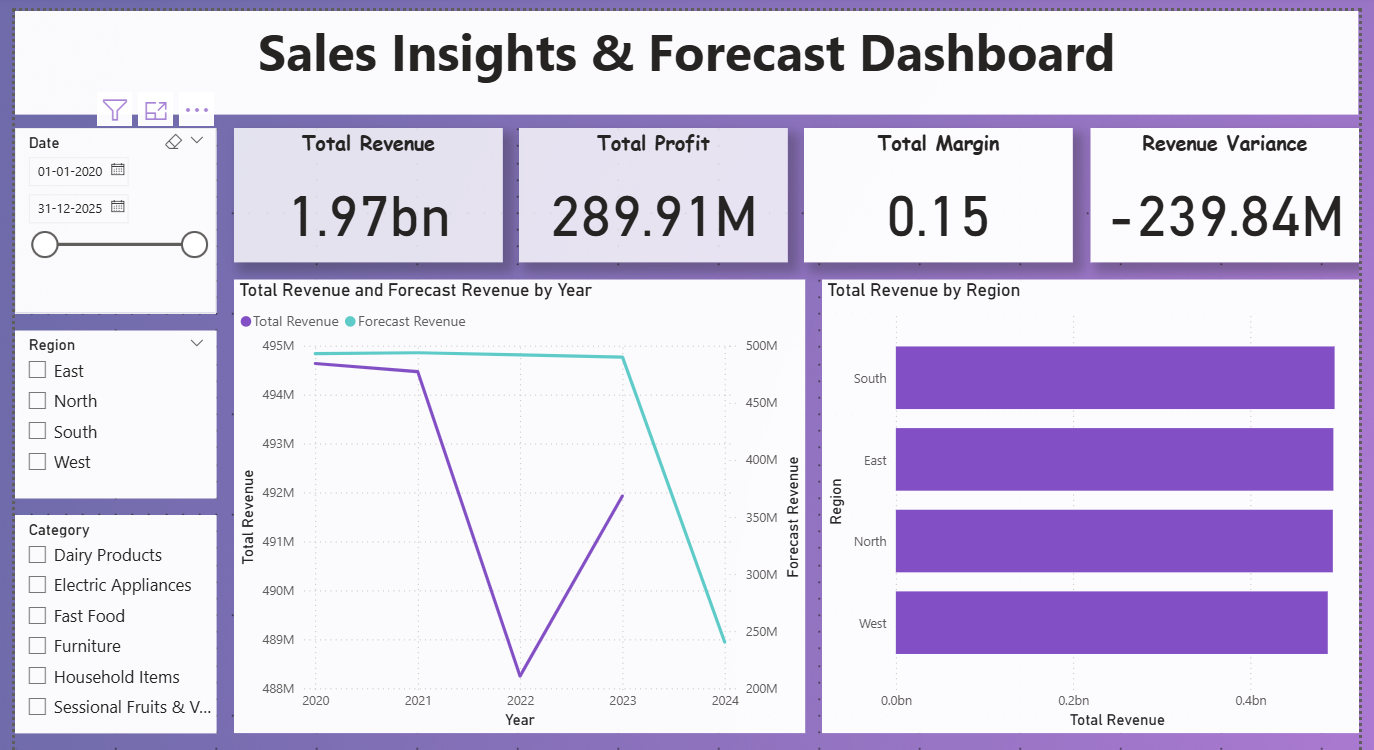

The page's visual inventory and layout, read from the dashboard file:
{"tool":"powerbi","page":{"name":"Executive Overview","canvas":[1280,720],"ordinal":0},"visuals":[{"type":"textbox","box":[0,0,1279.5,98.4],"z":0},{"type":"card","title":"Total Revenue","fields":{"Values":["Z_Measures.Total Revenue"]},"box":[208,112,256,128],"z":1000},{"type":"card","title":"Total Profit","fields":{"Values":["Z_Measures.Total Profit"]},"box":[480,112,256,128],"z":2000},{"type":"card","title":"Total Margin","fields":{"Values":["Z_Measures.Profit Margin"]},"box":[752,112,256,128],"z":3000},{"type":"card","title":"Revenue Variance","fields":{"Values":["Z_Measures.Revenue Variance"]},"box":[1024,112,256,128],"z":4000},{"type":"lineChart","fields":{"Category":["Date.Date.Variation.Date Hierarchy.Year","Date.Date.Variation.Date Hierarchy.Month"],"Y":["Z_Measures.Total Revenue"],"Y2":["Z_Measures.Forecast Revenue"]},"box":[208,256,544,432],"z":5000},{"type":"clusteredBarChart","fields":{"Category":["Fact_Sales.Region"],"Y":["Z_Measures.Total Revenue"]},"box":[768,256,512,432],"z":6000},{"type":"slicer","fields":{"Values":["Date.Date"]},"box":[0,112,192,176],"z":7000},{"type":"slicer","fields":{"Values":["Fact_Sales.Region"]},"box":[0,304,192,160],"z":8000},{"type":"slicer","fields":{"Values":["Fact_Sales.Category"]},"box":[0,480,192,208],"z":9000}]}

Visuals, with their boxes on the page's 1280x720 design canvas (x1, y1, x2, y2). These are canvas units, not pixel positions in the 1374x750 screenshot, which may show the page scaled, cropped or inside an application window:
textbox: pyautogui.locateOnScreen(0, 0, 1280, 98)
"Total Revenue" card: pyautogui.locateOnScreen(208, 112, 464, 240)
"Total Profit" card: pyautogui.locateOnScreen(480, 112, 736, 240)
"Total Margin" card: pyautogui.locateOnScreen(752, 112, 1008, 240)
"Revenue Variance" card: pyautogui.locateOnScreen(1024, 112, 1280, 240)
lineChart - Date.Date.Variation.Date Hierarchy.Year x Date.Date.Variation.Date Hierarchy.Month: pyautogui.locateOnScreen(208, 256, 752, 688)
clusteredBarChart - Fact_Sales.Region x Z_Measures.Total Revenue: pyautogui.locateOnScreen(768, 256, 1280, 688)
slicer - Date.Date: pyautogui.locateOnScreen(0, 112, 192, 288)
slicer - Fact_Sales.Region: pyautogui.locateOnScreen(0, 304, 192, 464)
slicer - Fact_Sales.Category: pyautogui.locateOnScreen(0, 480, 192, 688)
